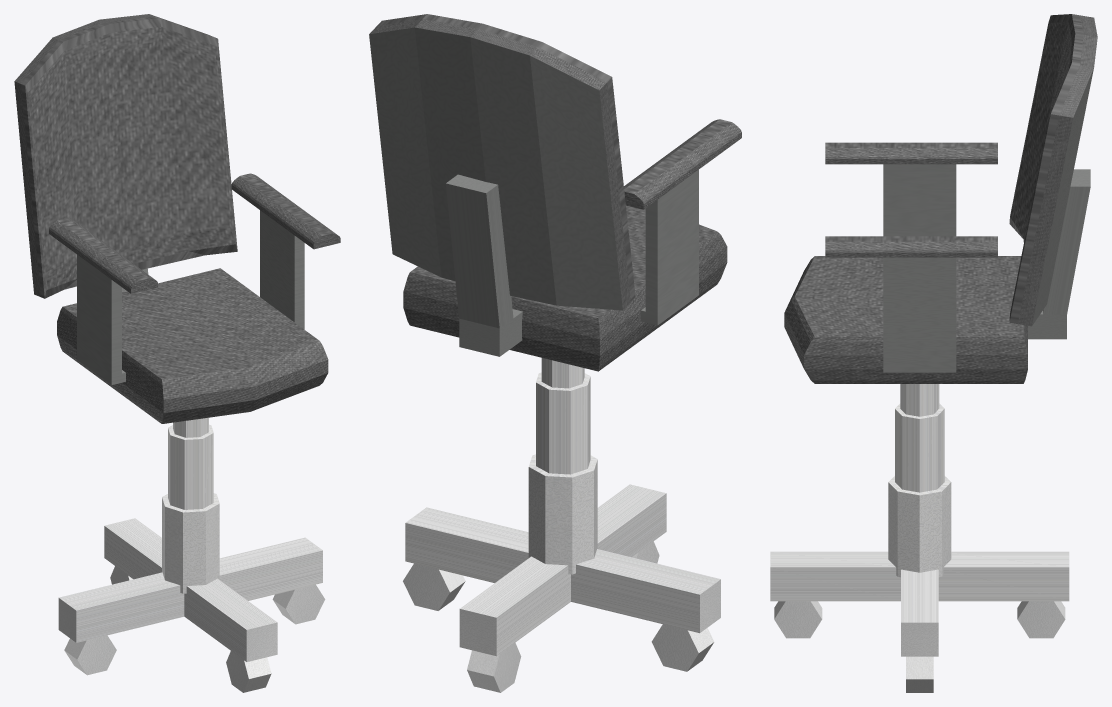
File: ChairV1.gltf
3 renders of one model, left to right at view 1: azimuth 30°, elevation 25°; view 2: azimuth 150°, elevation 25°; view 3: azimuth 270°, elevation 25°, orthographic. The views are drawn at different scales.
Visible parts, largest first — view 1: Cube.003, Cube, Cube.004, Cube.001, Cylinder, Cylinder.005, Cylinder.004, Cylinder.002; view 2: Cube.003, Cube.004, Cube, Cylinder, Cube.001, Cube.002, Cylinder.005, Cylinder.004, Cylinder.003; view 3: Cube.001, Cube, Cube.004, Cube.003, Cylinder, Cube.002, Cylinder.003, Cylinder.002, Cylinder.004.
Part boxes in pixels (x1=…): Cube.003: x1=14, y1=14, x2=237, y2=298; Cube: x1=57, y1=268, x2=328, y2=423; Cube.004: x1=58, y1=518, x2=322, y2=661; Cube.001: x1=49, y1=173, x2=340, y2=384; Cylinder: x1=162, y1=417, x2=219, y2=593; Cylinder.005: x1=64, y1=635, x2=116, y2=675; Cylinder.004: x1=272, y1=584, x2=325, y2=624; Cylinder.002: x1=226, y1=651, x2=271, y2=692; Cube.003: x1=369, y1=14, x2=635, y2=310; Cube.004: x1=405, y1=484, x2=720, y2=656; Cube: x1=403, y1=205, x2=727, y2=371; Cylinder: x1=528, y1=358, x2=597, y2=574; Cube.001: x1=624, y1=119, x2=741, y2=325; Cube.002: x1=446, y1=174, x2=522, y2=356; Cylinder.005: x1=651, y1=624, x2=714, y2=671; Cylinder.004: x1=403, y1=563, x2=465, y2=610; Cylinder.003: x1=467, y1=642, x2=521, y2=692; Cube.001: x1=825, y1=142, x2=997, y2=372; Cube: x1=784, y1=256, x2=1027, y2=383; Cube.004: x1=770, y1=551, x2=1069, y2=656; Cube.003: x1=1009, y1=14, x2=1097, y2=326; Cylinder: x1=888, y1=384, x2=951, y2=577; Cube.002: x1=1028, y1=169, x2=1090, y2=339; Cylinder.003: x1=1017, y1=601, x2=1065, y2=638; Cylinder.002: x1=774, y1=601, x2=822, y2=638; Cylinder.004: x1=906, y1=656, x2=933, y2=692.
Size of the model in its own units: 0.651 by 1.4 by 0.7001.
1 material, 1 textured.
